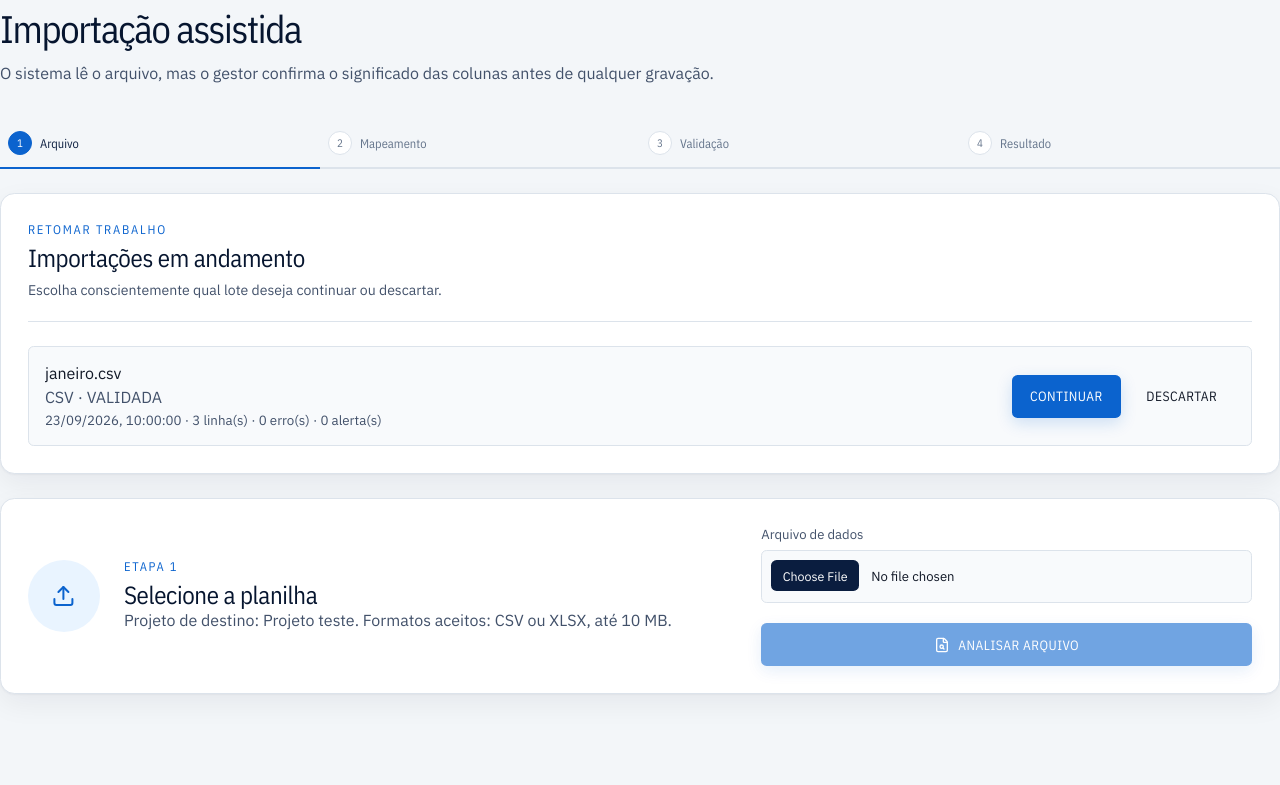
it: retomada visual da importação › restaura mapeamento e decisões e executa a revalidação automática
Click the button "CONTINUAR": (1066, 396) [1012,375,1121,418]
(page scrolled)
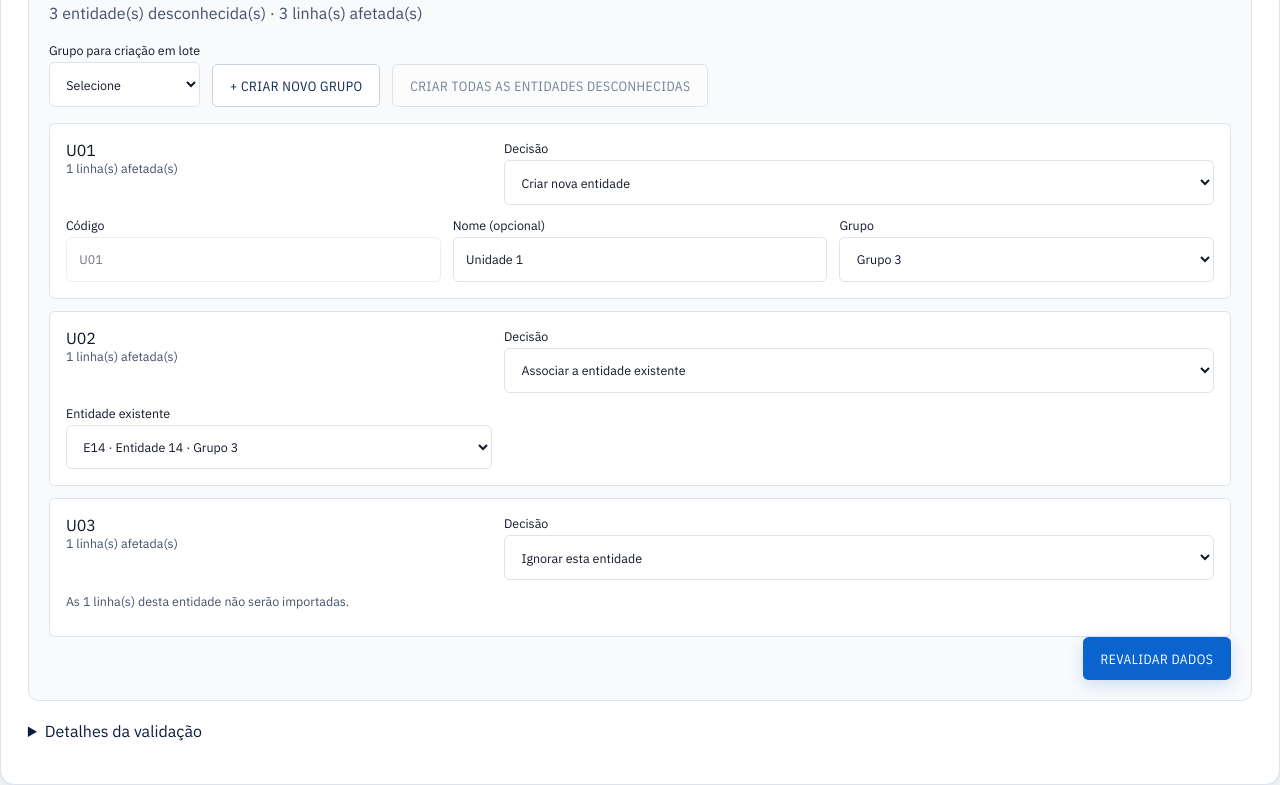
Expected: the dropdown named "Decisão para a entidade U01" shows "Criar nova entidade", [504,160,1214,205]
Expected: the dropdown named "Grupo da nova entidade U01" shows "Grupo 3", [839,237,1214,282]
Expected: the dropdown named "Decisão para a entidade U02" shows "Associar a entidade existente", [504,348,1214,393]
